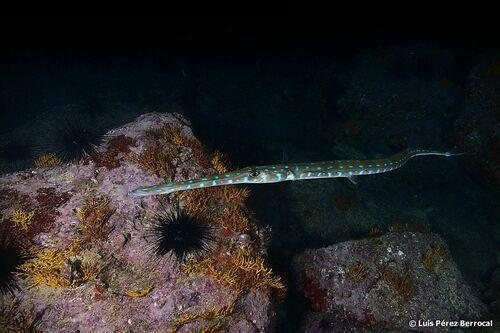Fistularia commersonii: (128, 144, 465, 199)
